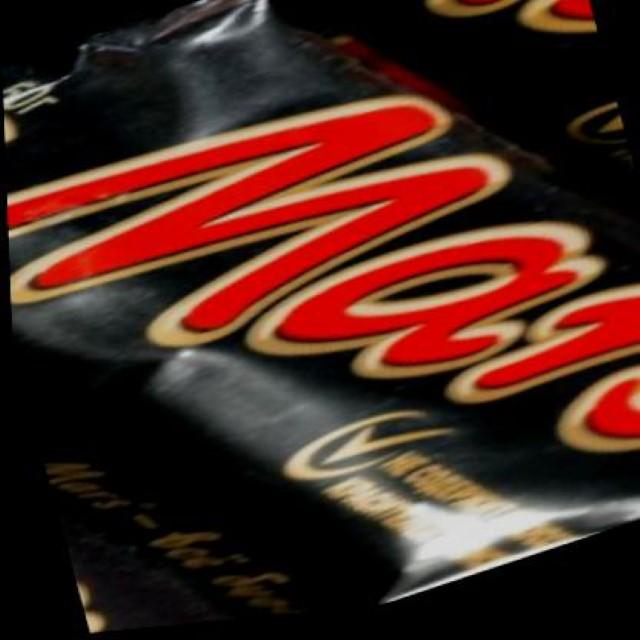mars_chocolate: (43, 71, 640, 584)
